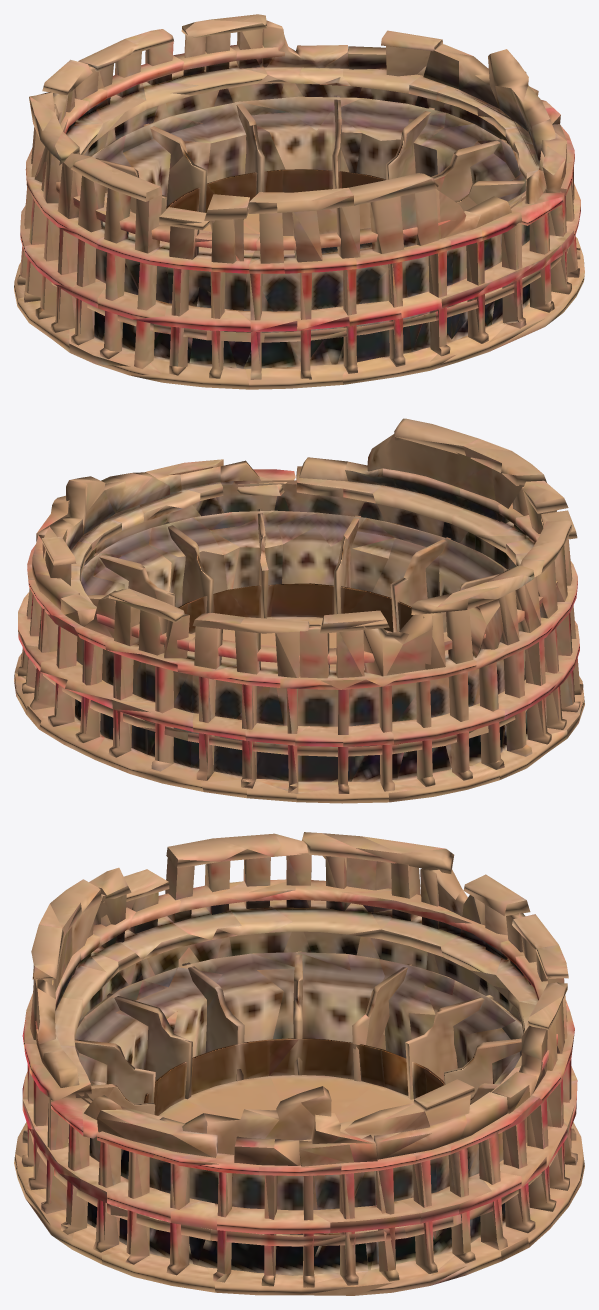
Rendered from colosseum.glb.
3 renders of one model, top to bottom at view 1: azimuth 30°, elevation 25°; view 2: azimuth 150°, elevation 25°; view 3: azimuth 270°, elevation 25°, orthographic. The views are drawn at different scales.
Visible parts, largest first — view 1: Poplur shared grounded normalization; view 2: Poplur shared grounded normalization; view 3: Poplur shared grounded normalization.
Part boxes in pixels (left/top/right/bottom): Poplur shared grounded normalization: left=14, top=14, right=584, bottom=389; Poplur shared grounded normalization: left=14, top=418, right=584, bottom=803; Poplur shared grounded normalization: left=14, top=832, right=584, bottom=1295.
Bounding box in the file's own units: 2.81 × 1 × 2.53.
1 material, 1 textured.
